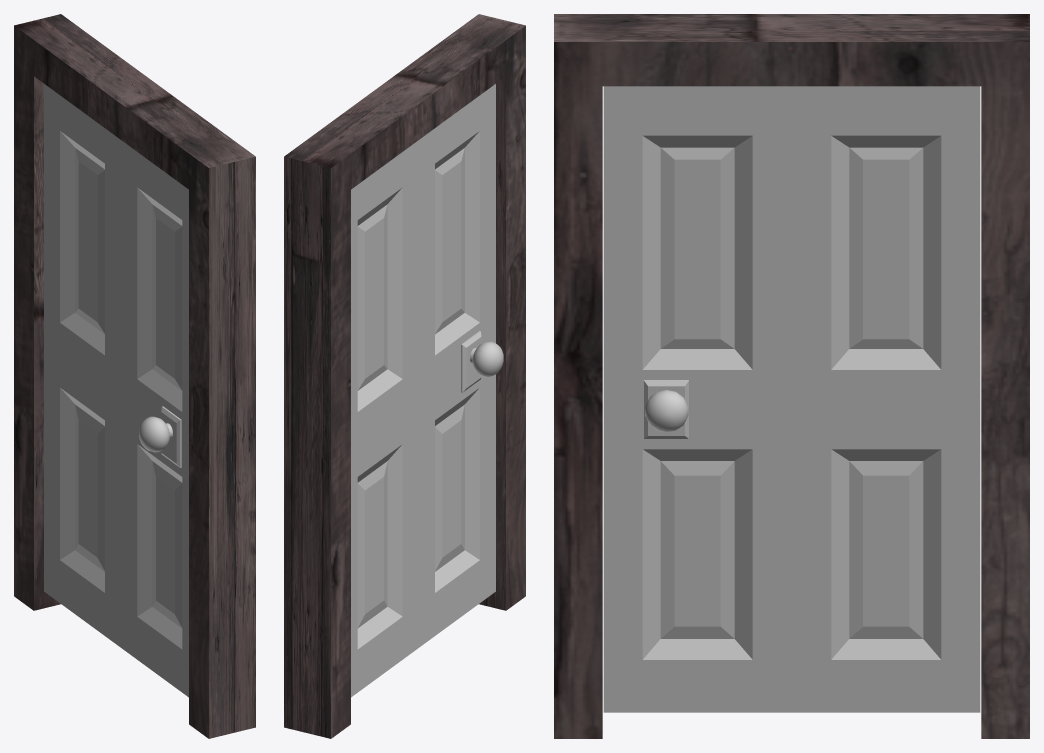
File: Door 1.fbx
3 renders of one model, left to right at view 1: azimuth 30°, elevation 25°; view 2: azimuth 150°, elevation 25°; view 3: azimuth 270°, elevation 25°, orthographic. The views are drawn at different scales.
Visible parts, largest first — view 1: Prefab_Door1, Prefab_Door1_Frame, Prefab_Door1_Handle2, Prefab_Door1_Handle4; view 2: Prefab_Door1, Prefab_Door1_Frame, Prefab_Door1_Handle2, Prefab_Door1_Handle4; view 3: Prefab_Door1, Prefab_Door1_Frame, Prefab_Door1_Handle3, Prefab_Door1_Handle4.
Boxes of the visible parts, x1=… form: Prefab_Door1: x1=44, y1=84, x2=188, y2=697; Prefab_Door1_Frame: x1=14, y1=14, x2=255, y2=738; Prefab_Door1_Handle2: x1=139, y1=416, x2=169, y2=452; Prefab_Door1_Handle4: x1=161, y1=406, x2=181, y2=467; Prefab_Door1: x1=351, y1=84, x2=495, y2=697; Prefab_Door1_Frame: x1=284, y1=14, x2=525, y2=738; Prefab_Door1_Handle2: x1=472, y1=341, x2=503, y2=377; Prefab_Door1_Handle4: x1=461, y1=331, x2=481, y2=392; Prefab_Door1: x1=603, y1=86, x2=980, y2=712; Prefab_Door1_Frame: x1=554, y1=14, x2=1029, y2=738; Prefab_Door1_Handle3: x1=645, y1=390, x2=688, y2=432; Prefab_Door1_Handle4: x1=644, y1=380, x2=688, y2=438.
Bounding box in the file's own units: 0.5928 × 3.6 × 2.23.
